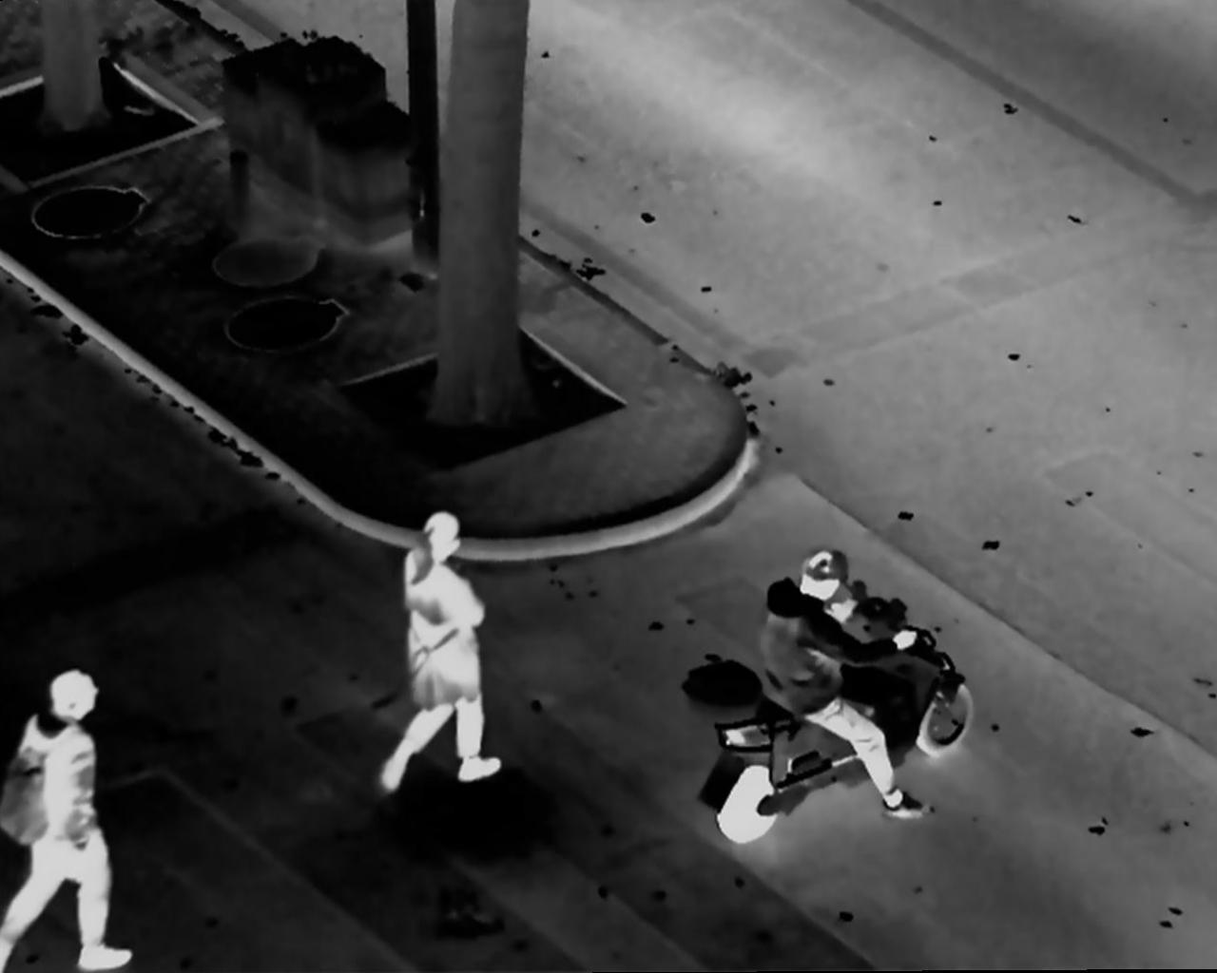person: (755, 536, 927, 829), (8, 659, 146, 969), (372, 502, 502, 799)
